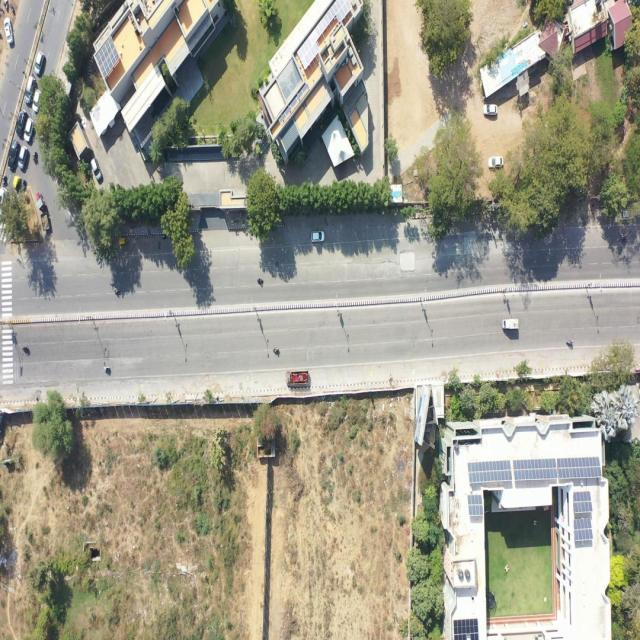3W: (116, 235, 129, 249), (13, 174, 21, 193)
Cars: (90, 154, 108, 183), (5, 140, 18, 172), (2, 17, 16, 46), (23, 74, 35, 106), (33, 48, 46, 74), (18, 145, 28, 174), (15, 109, 26, 134), (482, 102, 499, 118), (486, 156, 505, 170), (32, 88, 41, 116), (0, 186, 9, 214), (618, 208, 636, 222), (24, 114, 31, 146), (310, 230, 326, 243)
LCV: (500, 316, 519, 331)
M2W: (9, 1, 16, 14), (256, 277, 265, 287), (102, 366, 112, 375), (22, 345, 31, 355), (33, 148, 38, 166), (2, 172, 8, 187), (22, 177, 27, 194), (272, 346, 280, 356), (565, 338, 573, 347), (161, 233, 170, 240), (113, 287, 122, 294), (621, 236, 627, 242), (4, 0, 8, 8)
Truck: (34, 191, 54, 236), (284, 369, 312, 386)
